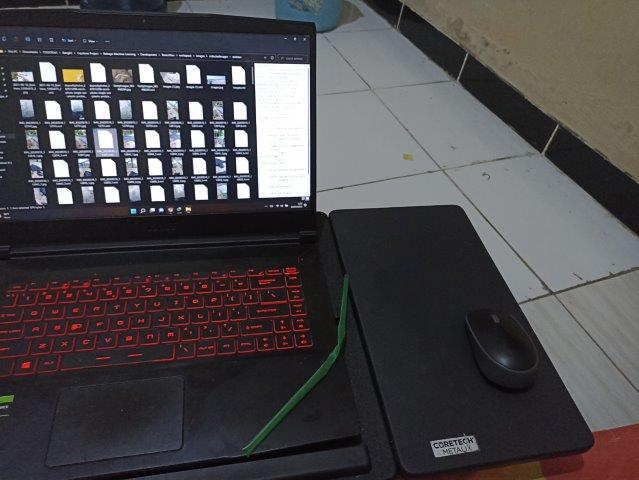sedotan: (243, 275, 350, 453)
